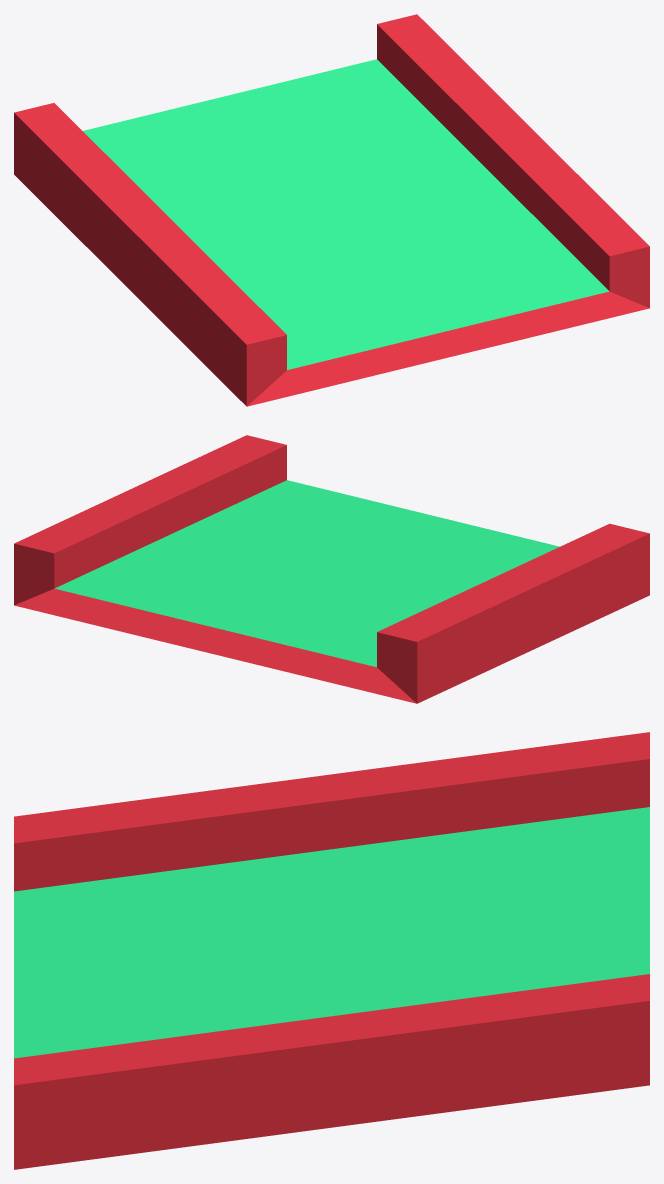
File: rampA.fbx
3 views of the same model, one above another, from view 1: azimuth 30°, elevation 25°; view 2: azimuth 150°, elevation 25°; view 3: azimuth 270°, elevation 25° (orthographic). The views are drawn at different scales.
Parts seen in each view (by area): view 1: rampA; view 2: rampA; view 3: rampA.
Part boxes in pixels (x1,y1,x2,y2): rampA: (14,14,649,406); rampA: (14,435,649,703); rampA: (14,732,649,1169).
Size of the model in its own units: 99.99 by 99.99 by 29.33.
